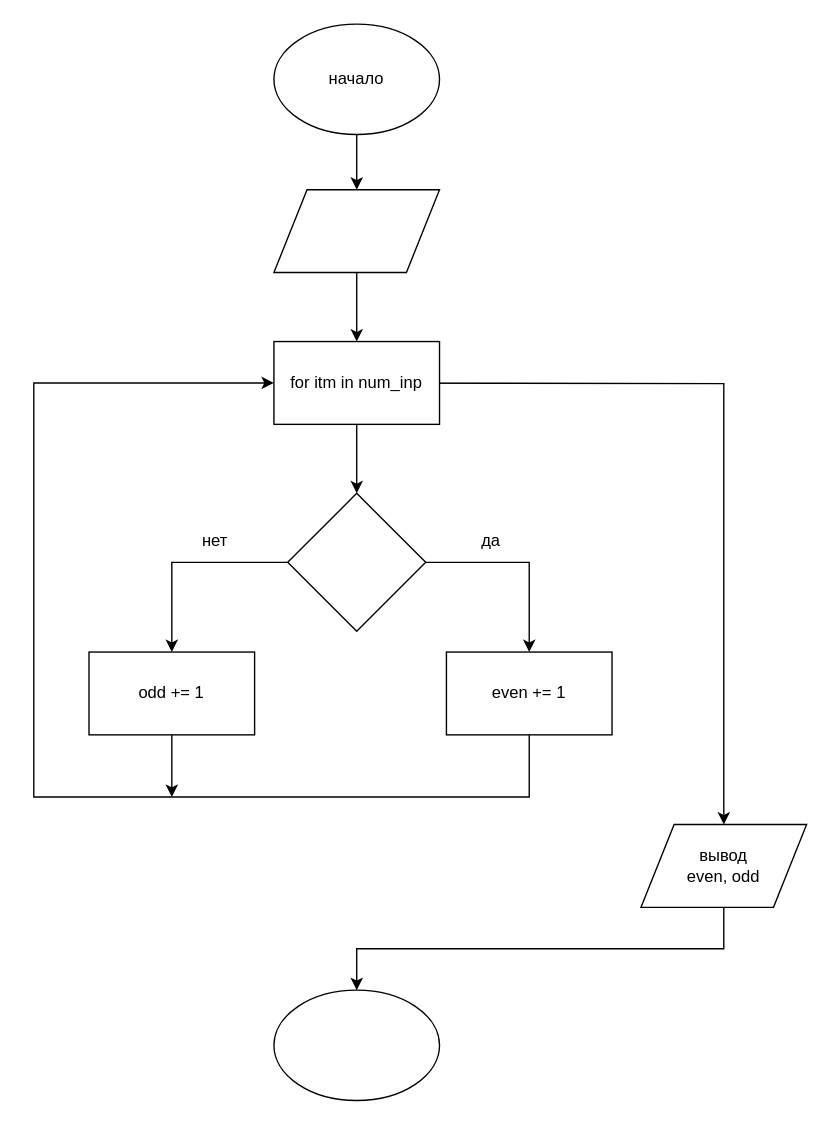
Image size: 831x1125. Some labels were removed from this diagram. Each missing label, with the centre of its shape:
"itm & 1 == 0" goes at [356,561].
"ввод num_inp" goes at [356,230].
"конец" goes at [356,1045].
